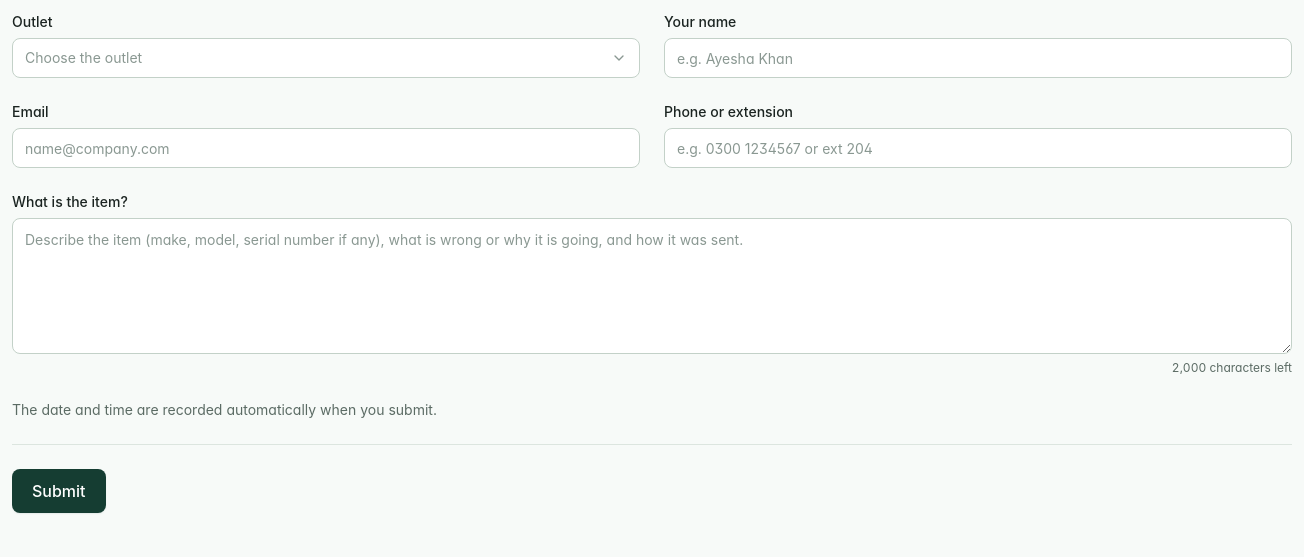
Scenario: TransferForm (public) › rejects a malformed email before sending
This screenshot has width=1304, height=557.
Type "not-an-email" into the field labelled "Email" at (326, 148), box x1=12 y1=128 x2=640 y2=168
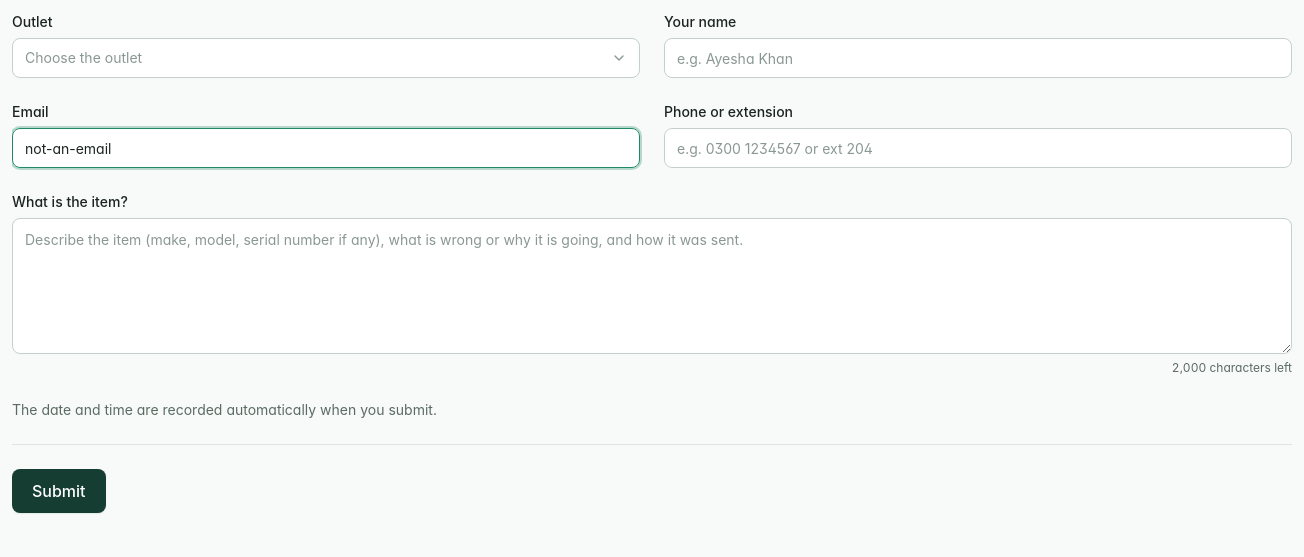
Press Tab
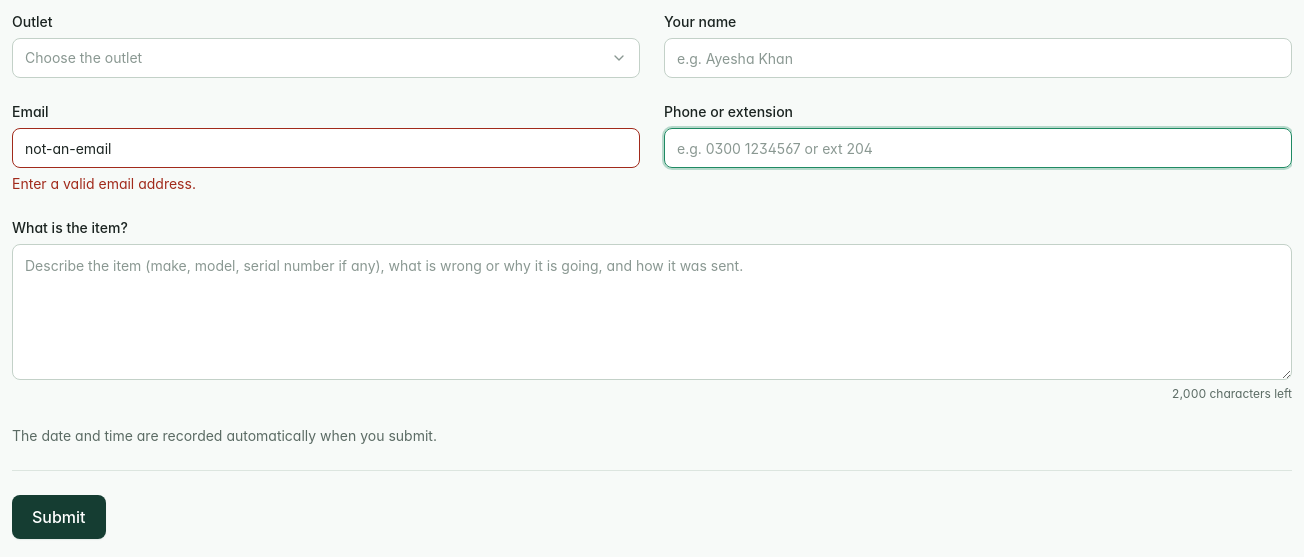
Expected: the text "Enter a valid email address." is shown, x1=12 y1=175 x2=196 y2=192
